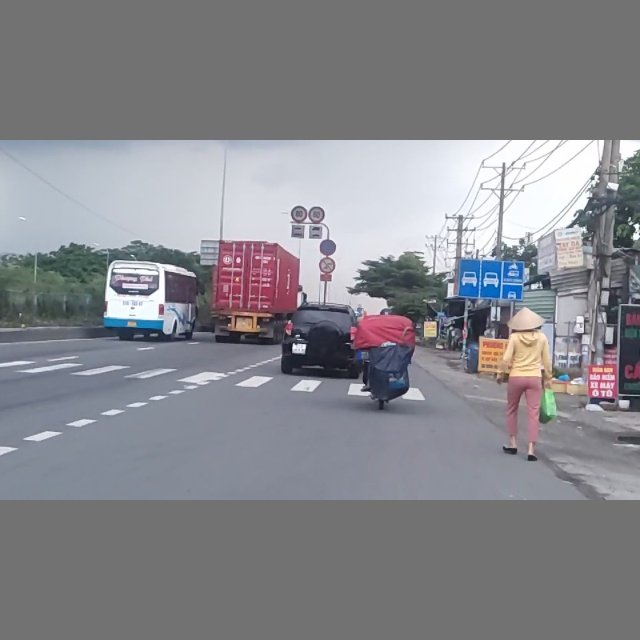P.111: (319, 257, 335, 273)
P.127*60: (309, 207, 325, 223)
P.127*80: (291, 205, 307, 223)
P.130: (319, 239, 337, 255)
R.415a: (459, 259, 522, 301)
